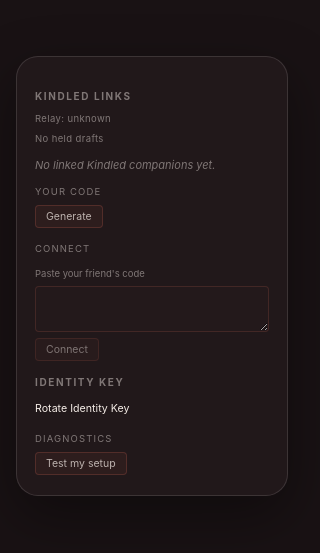
Test case: KindledLinksPanel — self-test section › shows PASS verdict and per-stage rows after a successful self-test
The width and height of the screenshot is (320, 553).
Click the button "Test my setup" at (81, 463), box [35, 452, 127, 475]
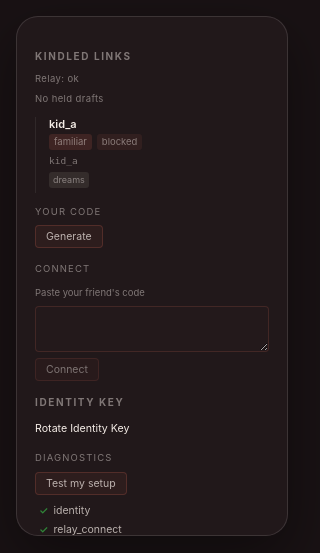
Now the text "identity" is shown, box [54, 503, 90, 518]
Now the text "relay_connect" is shown, box [54, 522, 122, 536]
